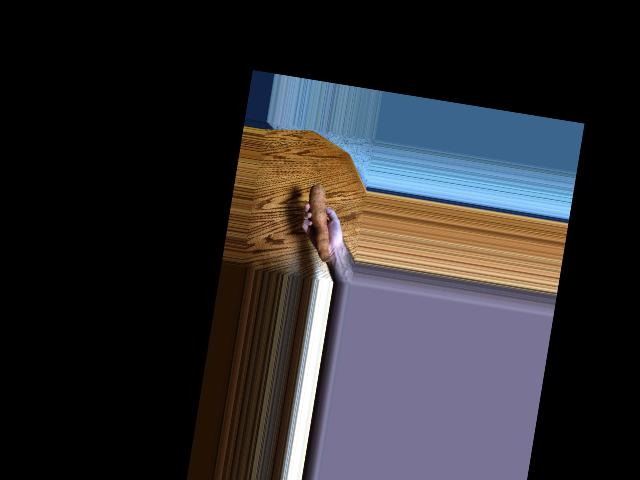sweet_potato: (298, 186, 337, 258)
